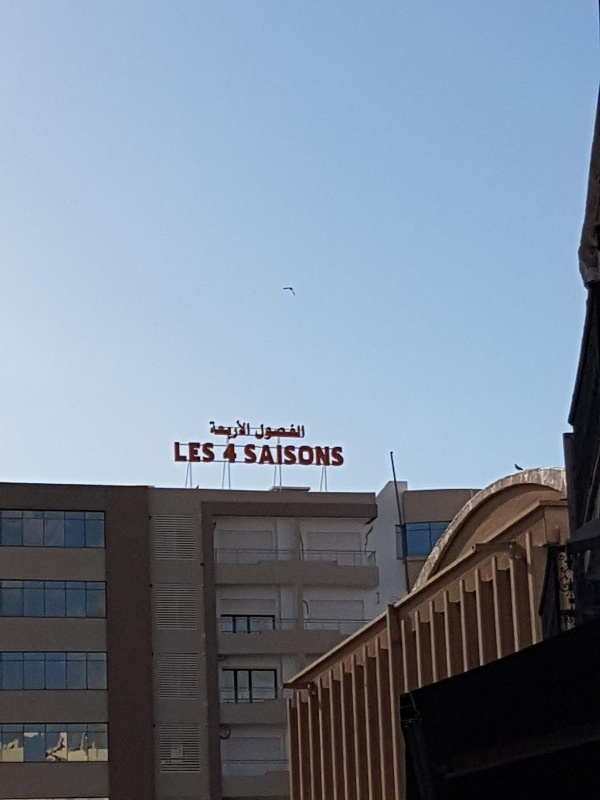text: (257, 444, 272, 467), (273, 444, 288, 467), (289, 444, 304, 467), (305, 444, 320, 467), (321, 444, 336, 467), (177, 442, 192, 463), (193, 442, 208, 463), (225, 419, 240, 439), (210, 419, 224, 439), (289, 424, 305, 440), (245, 444, 256, 467), (257, 424, 272, 440), (273, 424, 288, 440), (225, 444, 236, 463), (337, 444, 345, 467), (241, 419, 250, 439), (209, 442, 215, 463), (175, 442, 176, 463), (223, 444, 224, 463)
